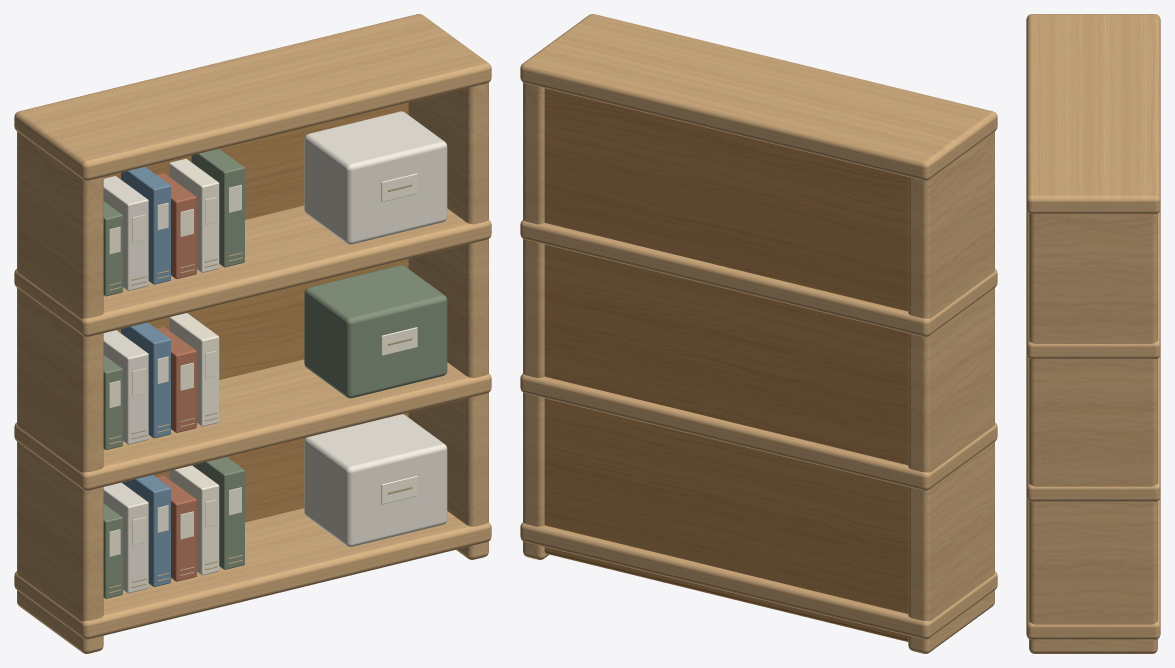
The model's file is bookshelf.glb.
The picture shows the model from 3 angles, left to right: view 1: azimuth 30°, elevation 25°; view 2: azimuth 150°, elevation 25°; view 3: azimuth 270°, elevation 25°; orthographic projection. The views are drawn at different scales.
Parts seen in each view (by area): view 1: Bookshelf_oak (×2), Bookshelf_cream, Bookshelf_sage, Bookshelf_paper, Bookshelf_blue, Bookshelf_terra, Bookshelf_brass; view 2: Bookshelf_oak (×2); view 3: Bookshelf_oak.
Boxes of the visible parts, x1,y1,x2,y2 form: Bookshelf_oak (×2): [14, 14, 491, 653]; Bookshelf_cream: [103, 111, 447, 593]; Bookshelf_sage: [103, 149, 447, 598]; Bookshelf_paper: [109, 158, 417, 575]; Bookshelf_blue: [121, 167, 170, 586]; Bookshelf_terra: [156, 173, 196, 581]; Bookshelf_brass: [108, 184, 412, 593]; Bookshelf_oak (×2): [520, 14, 997, 653]; Bookshelf_oak: [1026, 14, 1160, 653].
Bounding box in the file's own units: 1.7 × 1.96 × 0.52.
8 materials, 2 textured.
